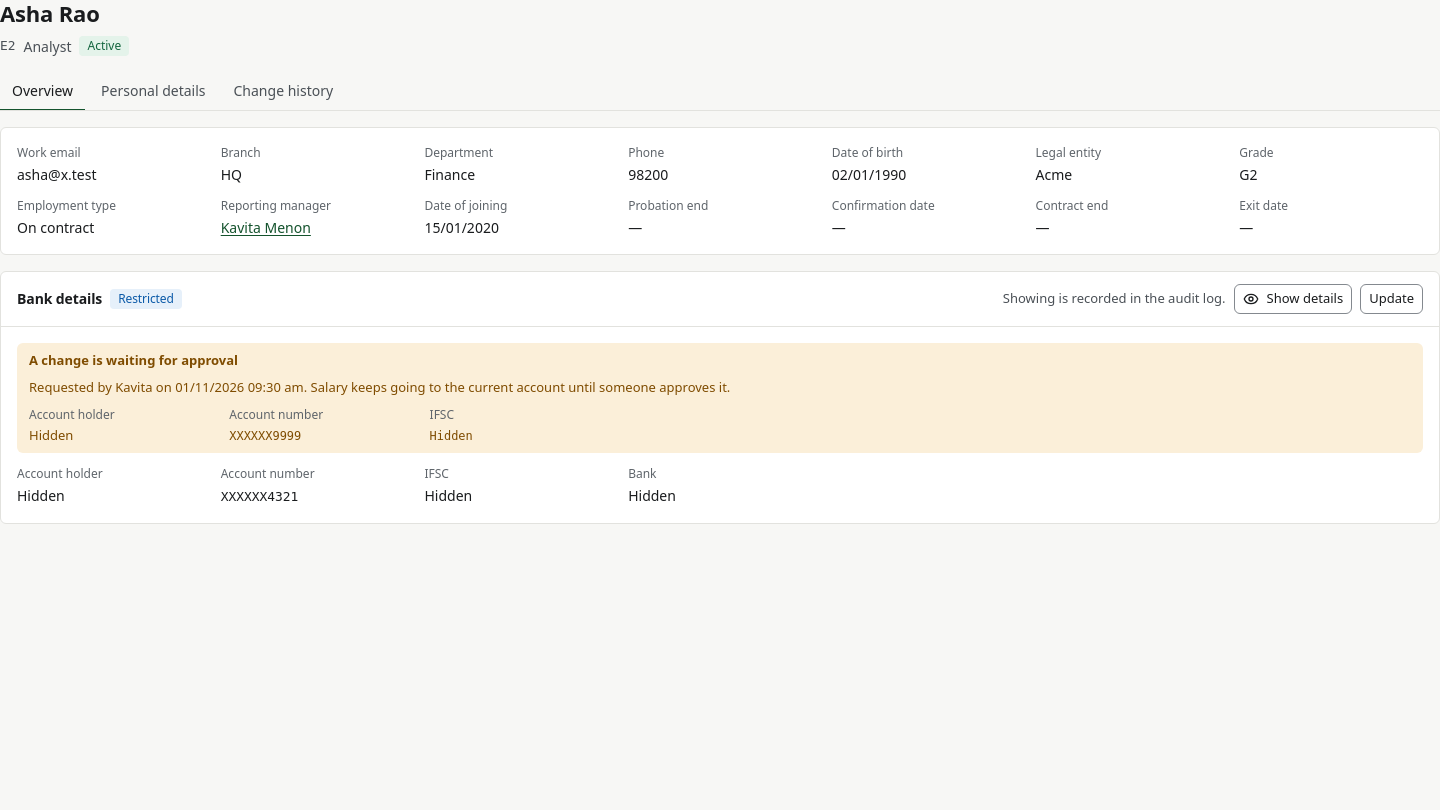
Test: employee record › bank details › the update form strips the number, uppercases IFSC, and a refusal stays open
Step 1. Click the button "Update" → (1392, 298), box [1360, 284, 1423, 314]
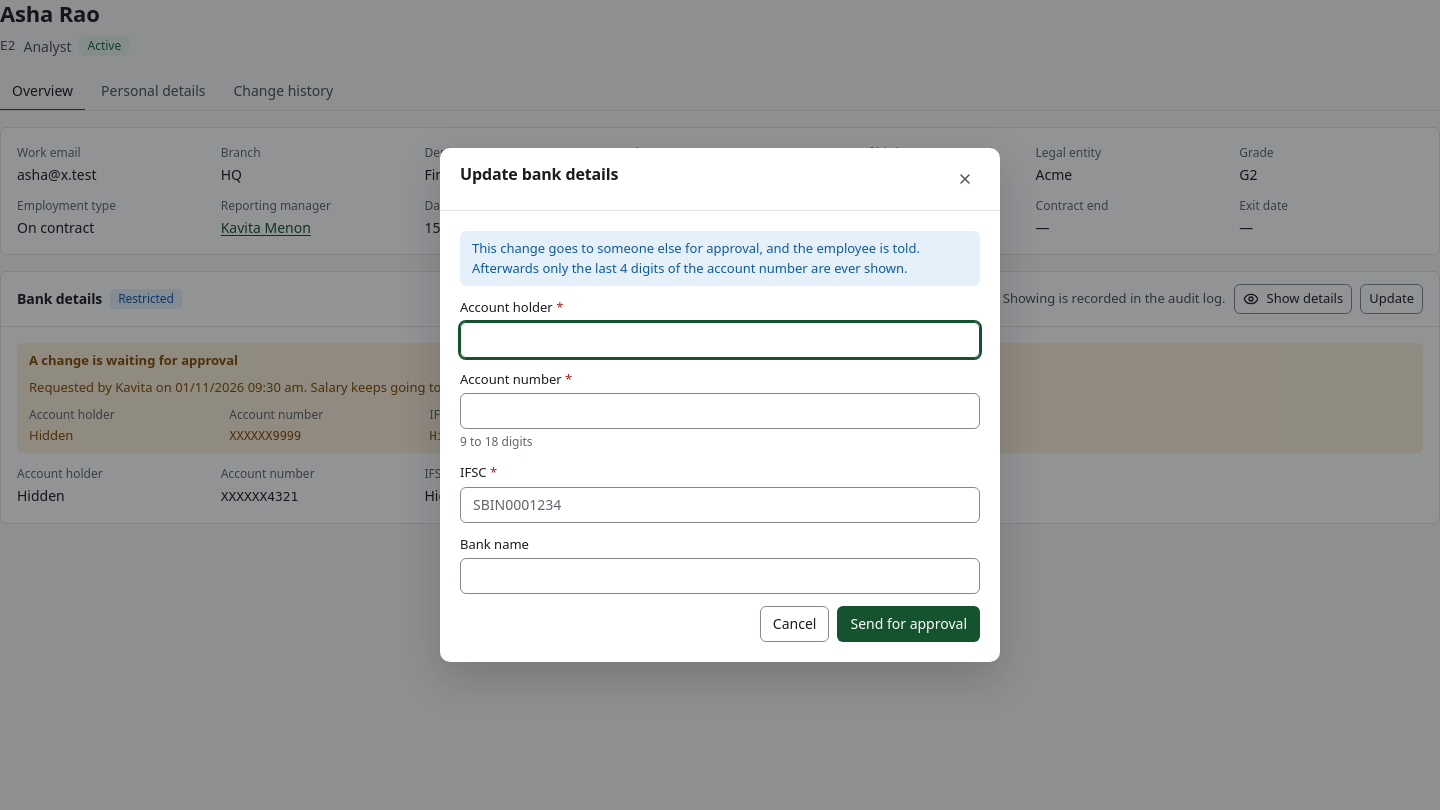
Step 2. Type "Asha" into the field labelled "Account holder *" → (720, 340), box [460, 322, 980, 358]
Step 3. Type "1234 5678-90" into the field labelled "Account number *" → (720, 411), box [460, 393, 980, 429]
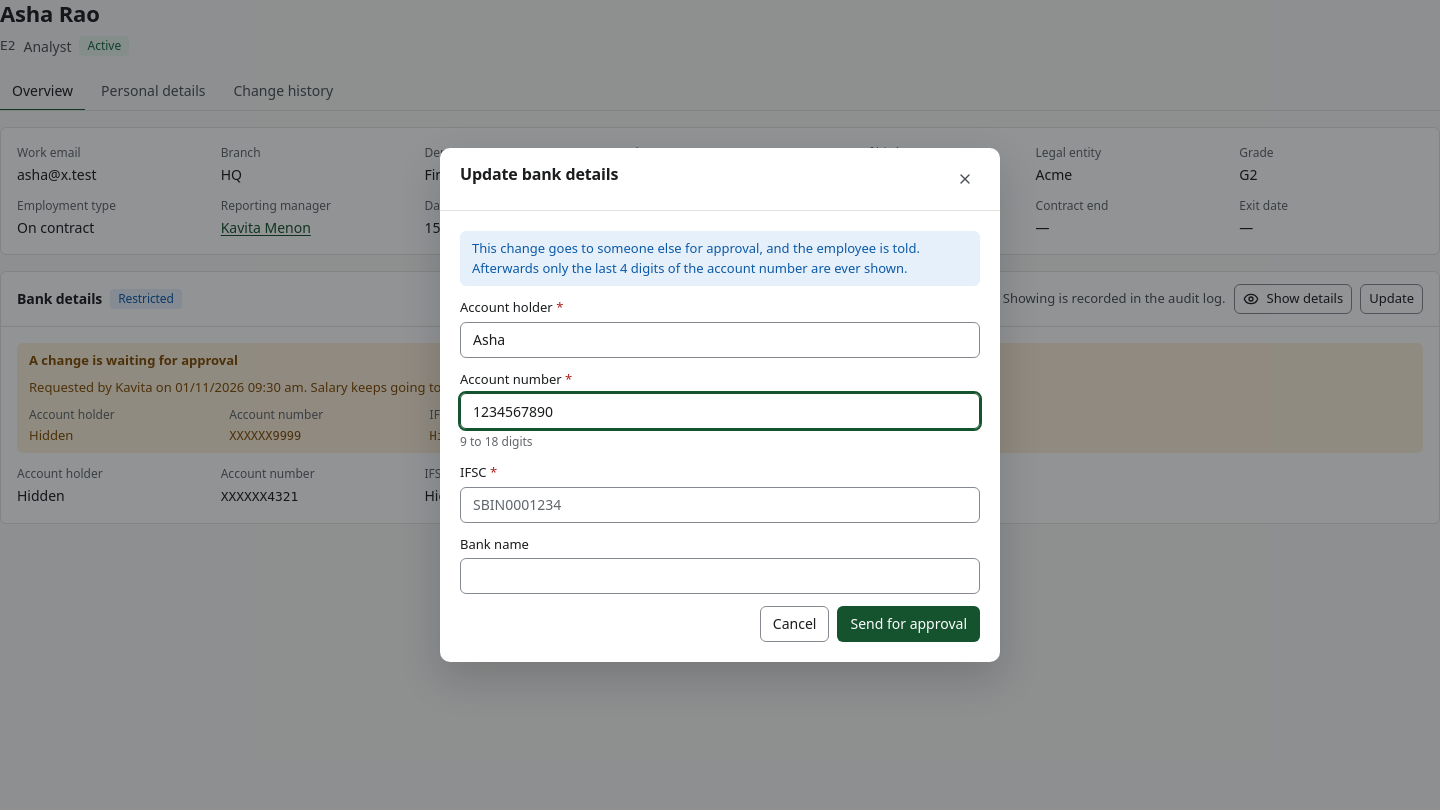
Step 4. Type "sbin0001234" into the field labelled "IFSC *" → (720, 504), box [460, 486, 980, 522]
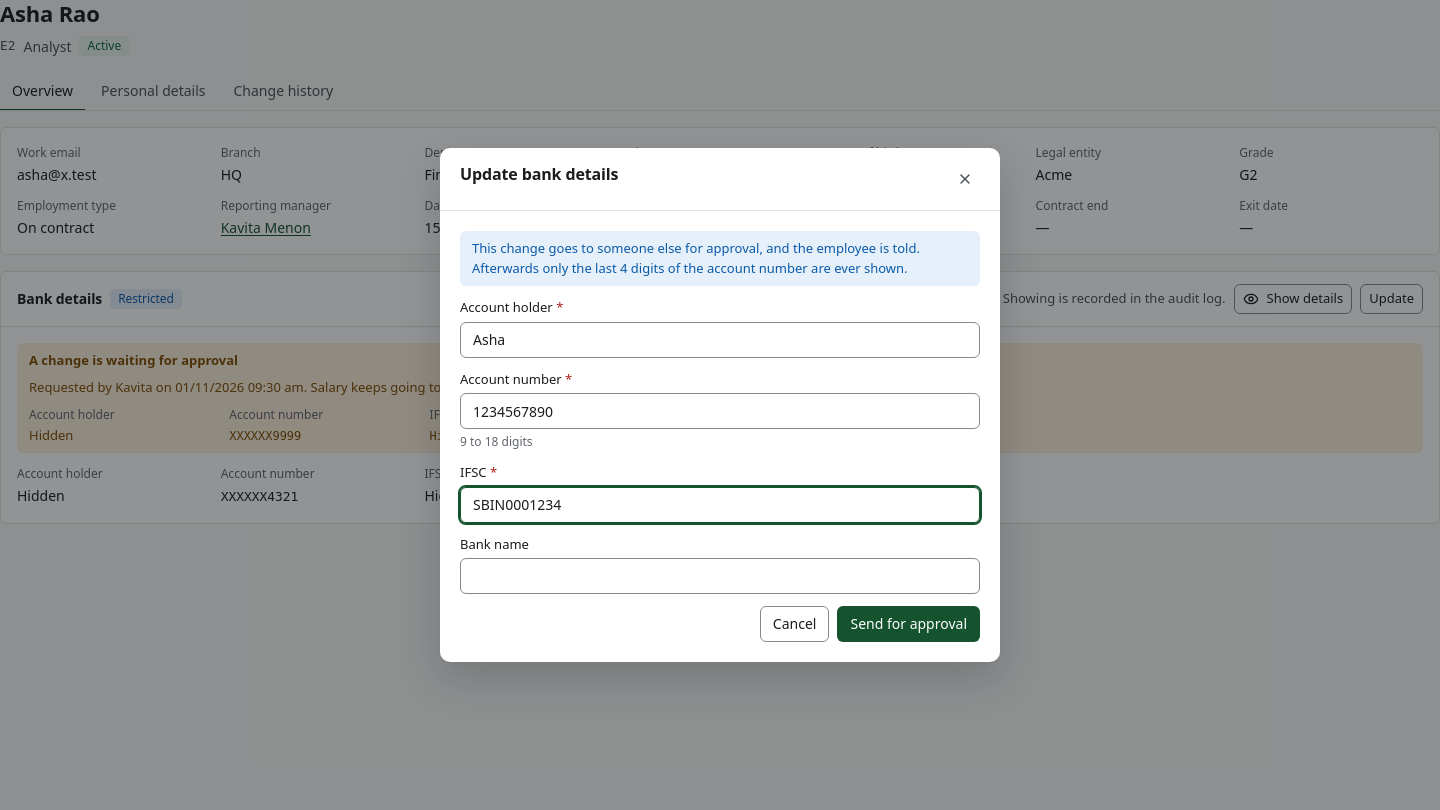
Step 5. Type "SBI" into the field labelled "Bank name" → (720, 576), box [460, 558, 980, 594]
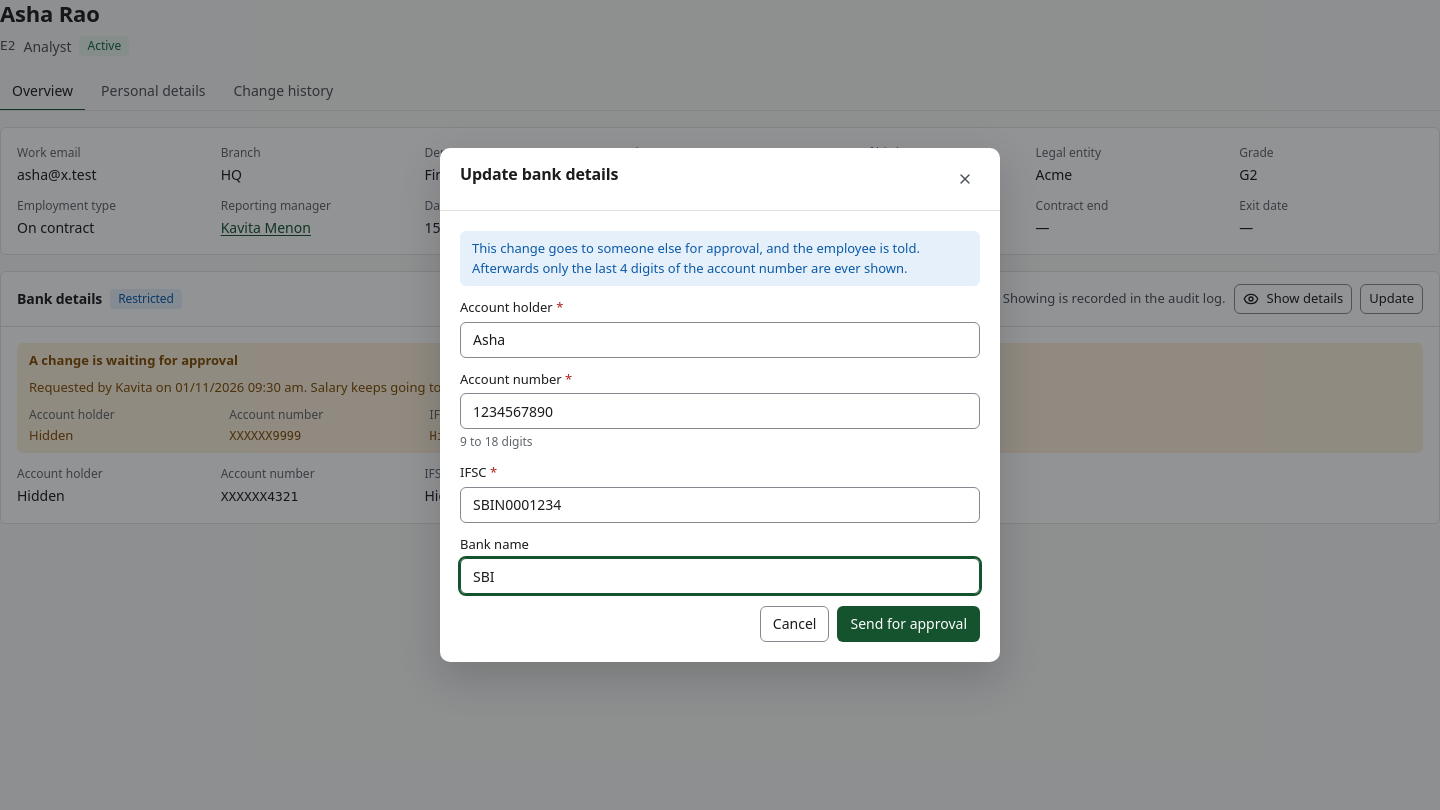
Step 6. Click the button "Send for approval" → (909, 624), box [838, 606, 980, 642]
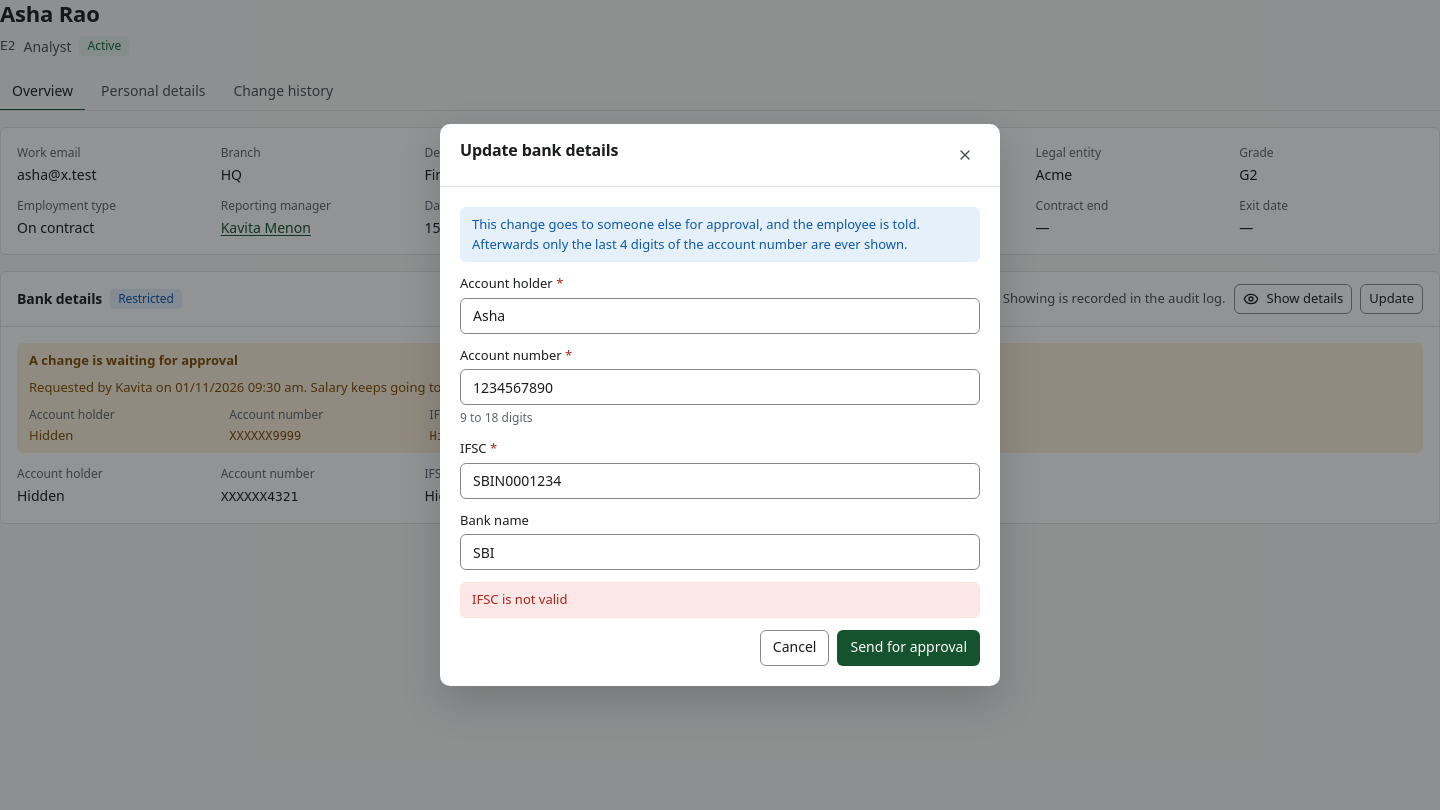
Expected: the field labelled "Account number *" holds "1234567890", [460, 369, 980, 405]
Expected: the message reads "IFSC is not valid", [472, 590, 567, 608]
Step 7. Click the button "Cancel" → (795, 648), box [760, 630, 830, 666]
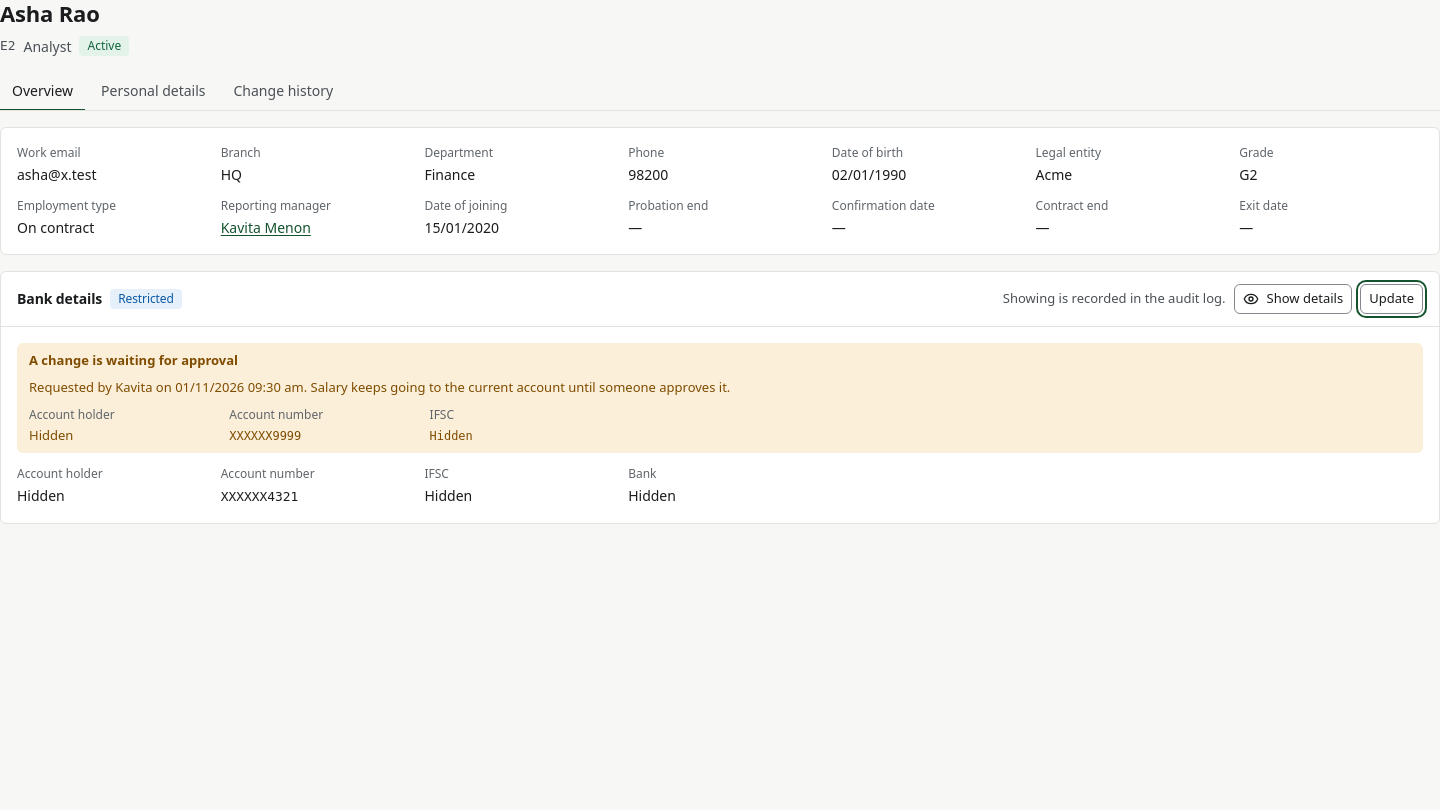
Expected: the dialog is gone
